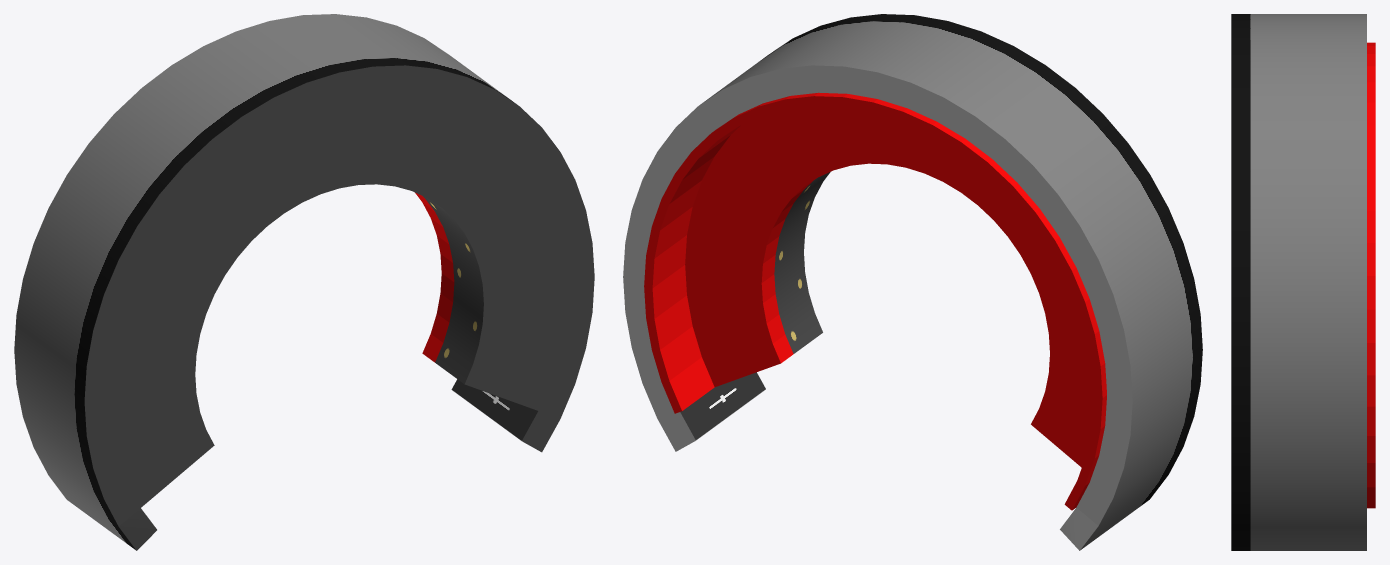
Rendered from BP_chairboothcircle_ low.fbx.
The picture shows the model from 3 angles, left to right: view 1: azimuth 30°, elevation 25°; view 2: azimuth 150°, elevation 25°; view 3: azimuth 270°, elevation 25°; orthographic projection. The views are drawn at different scales.
Parts seen in each view (by area): view 1: Booth Seat; view 2: Booth Seat; view 3: Booth Seat.
Boxes of the visible parts, bbox=[...] form: Booth Seat: bbox=[14, 14, 594, 550]; Booth Seat: bbox=[623, 14, 1202, 550]; Booth Seat: bbox=[1231, 14, 1375, 550].
Bounding box in the file's own units: 309 × 248 × 78.43.
